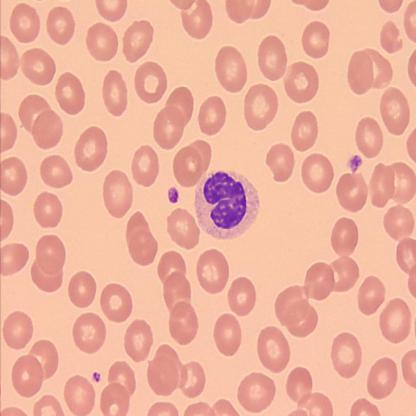Band Neutrophil: (193, 164, 261, 242)
